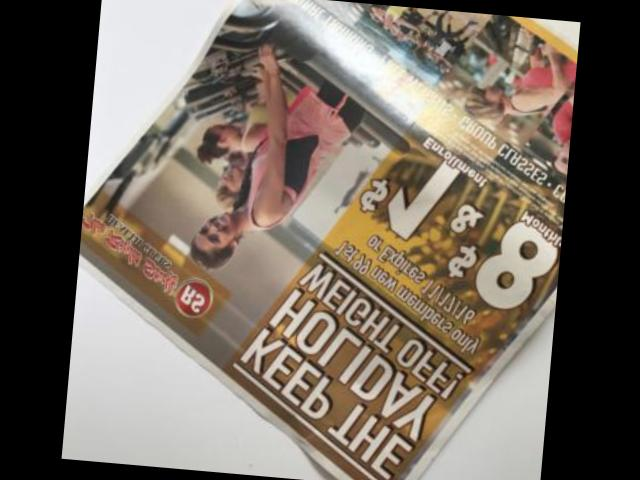cardboard paper: (77, 0, 577, 480)
